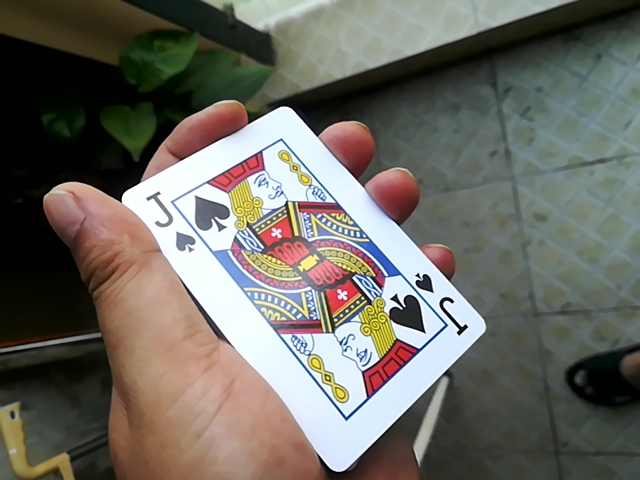ht j: (118, 98, 469, 480)
